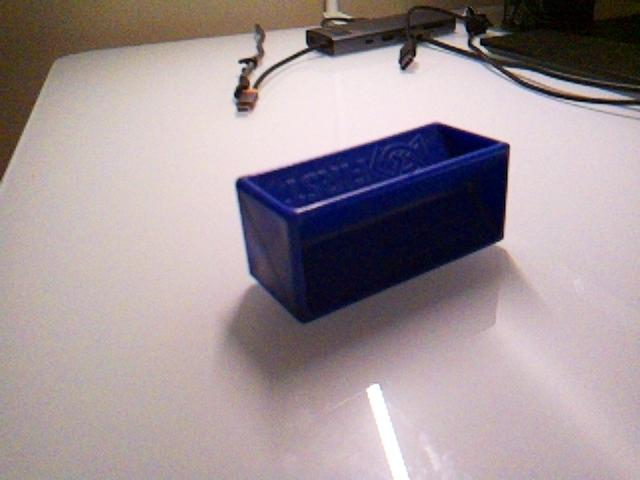blue: (234, 120, 512, 324)
